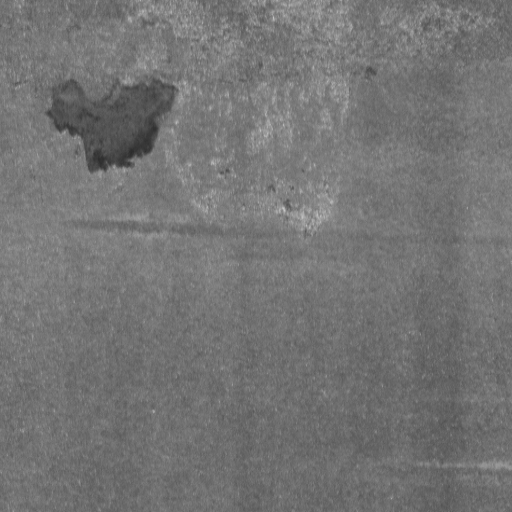aokeng: (47, 76, 180, 174)
